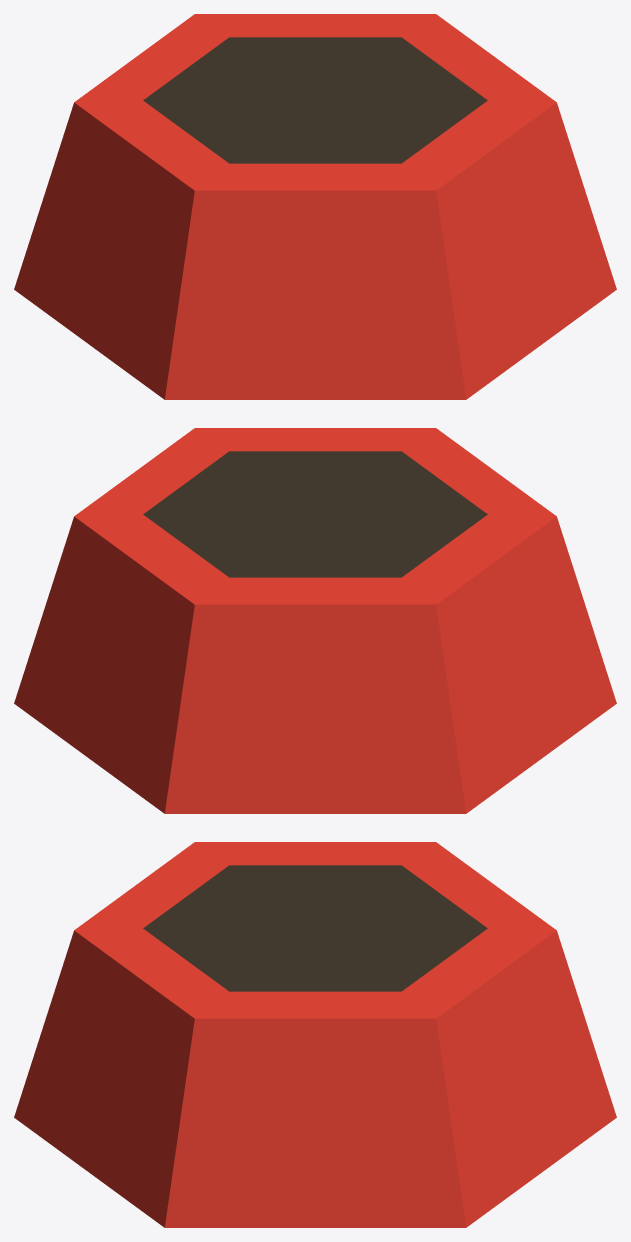
File: Bowl.fbx
3 views of the same model, one above another, from view 1: azimuth 30°, elevation 25°; view 2: azimuth 150°, elevation 25°; view 3: azimuth 270°, elevation 25° (orthographic).
Parts seen in each view (by area): view 1: Bowl; view 2: Bowl; view 3: Bowl.
Part boxes in pixels (bbox=[...]): Bowl: bbox=[14, 14, 616, 399]; Bowl: bbox=[14, 428, 616, 813]; Bowl: bbox=[14, 842, 616, 1227].
Bounding box in the file's own units: 48.63 × 19.44 × 56.16.
